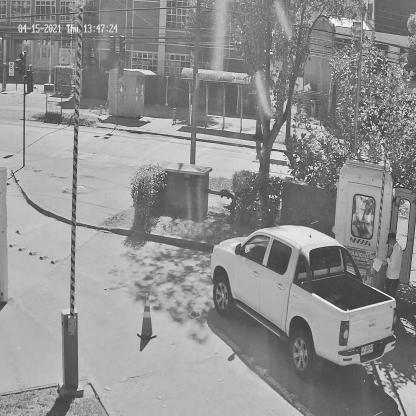Patente: (360, 344, 374, 356)
